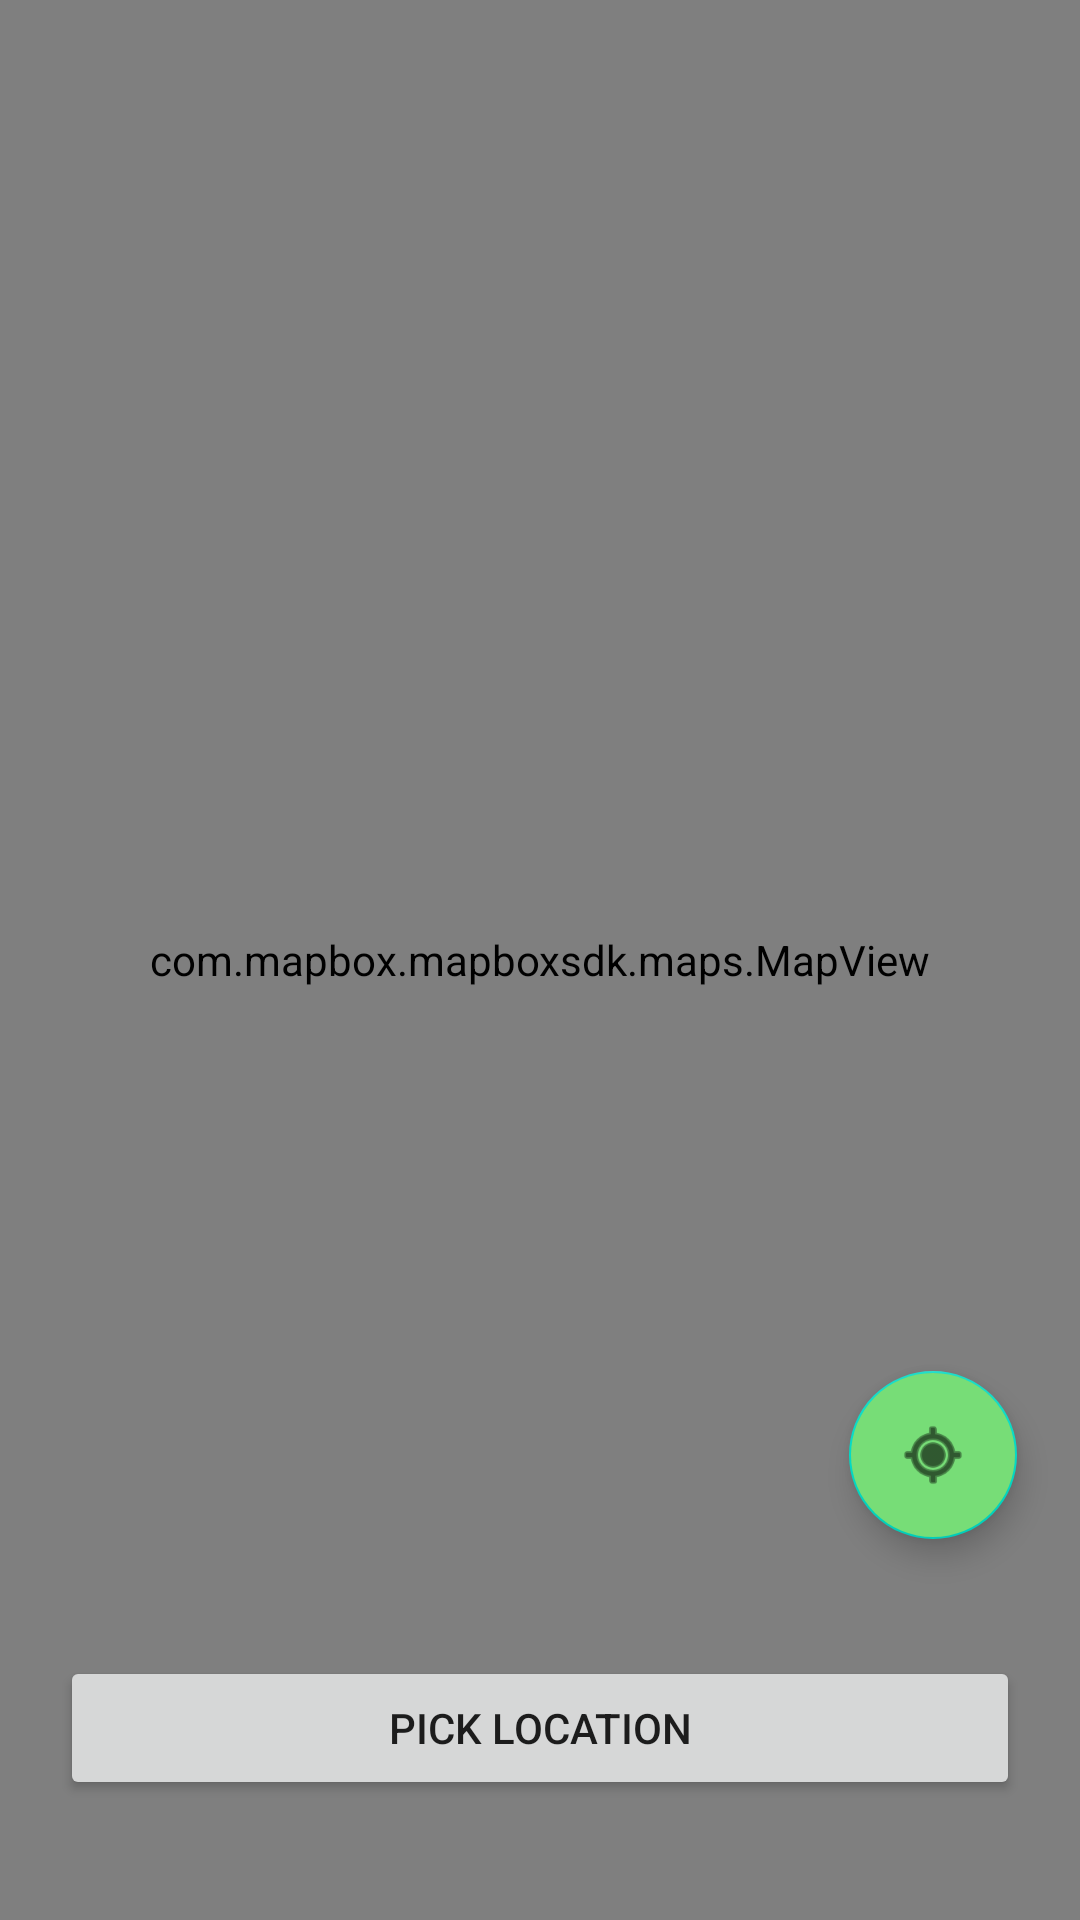

Icons on this 1080×1920 Android screen, each with the point to tap as (x,y):
mylocation: (933,1455)
